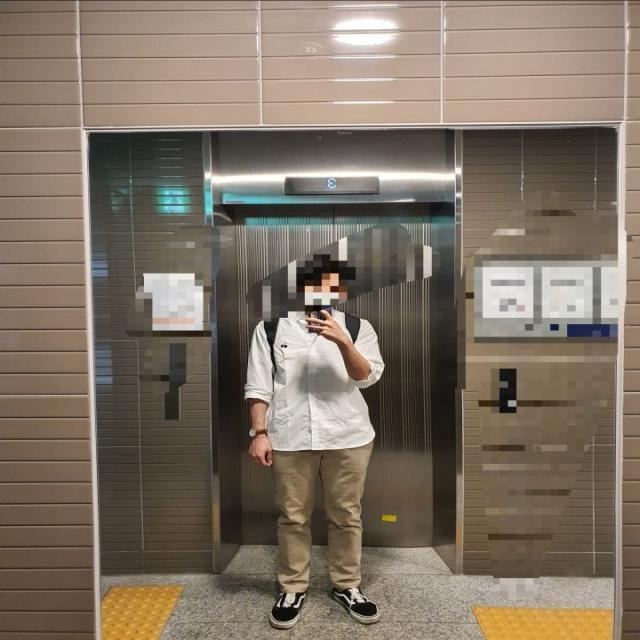cottonpants: (271, 441, 374, 596)
shirt: (243, 315, 384, 453)
